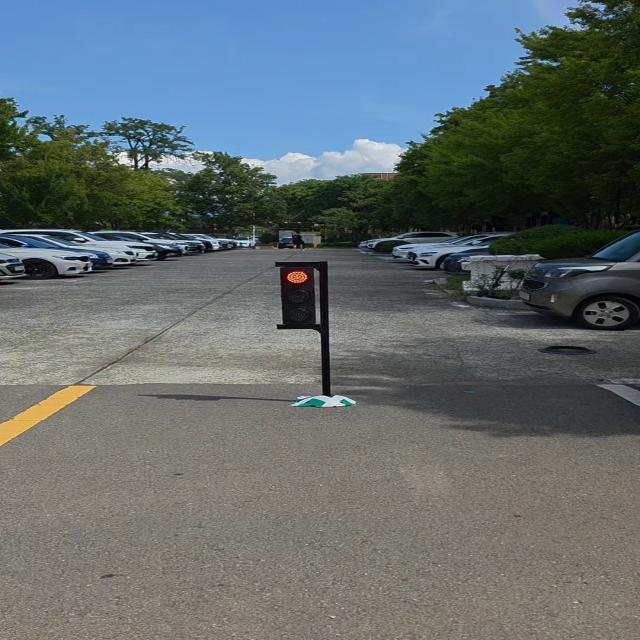red: (271, 261, 328, 331)
